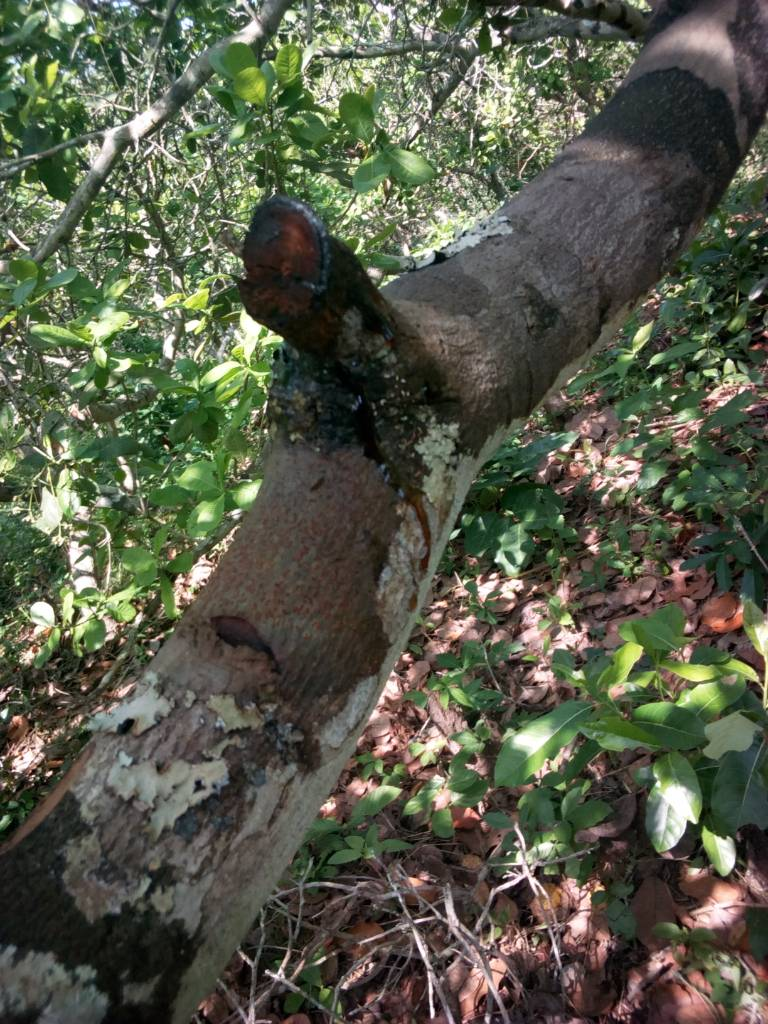Gommose: (246, 194, 416, 463)
